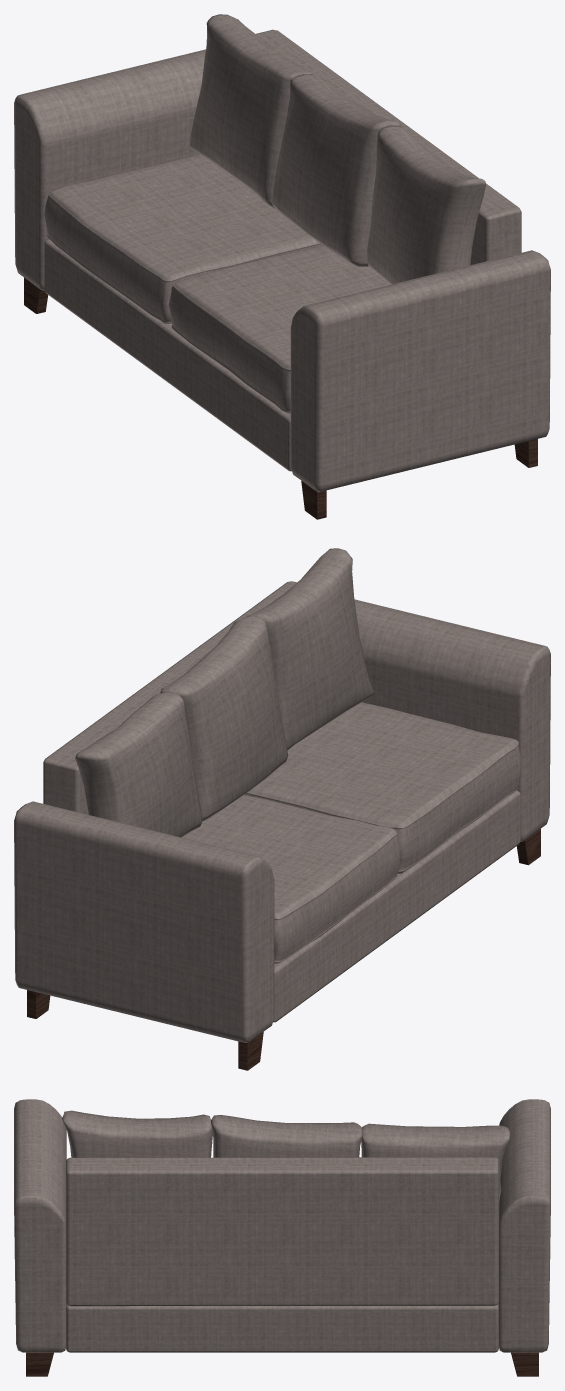
The model's file is sofa_grey_fabric.glb.
3 views of the same model, one above another, from view 1: azimuth 30°, elevation 25°; view 2: azimuth 150°, elevation 25°; view 3: azimuth 270°, elevation 25° (orthographic). The views are drawn at different scales.
Parts seen in each view (by area): view 1: dessous; view 2: dessous; view 3: dessous.
Boxes of the visible parts, left/top/right/bottom form: dessous: left=14, top=14, right=550, bottom=519; dessous: left=14, top=548, right=550, bottom=1070; dessous: left=14, top=1099, right=550, bottom=1376.
Bounding box in the file's own units: 98.25 × 110 × 219.
1 material, 1 textured.
